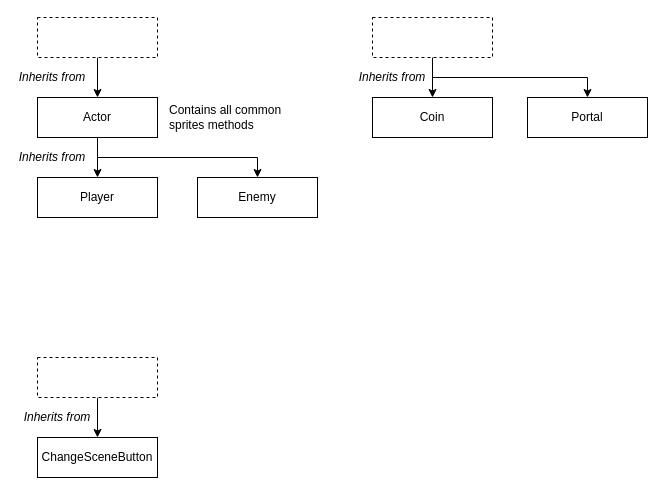
Some shapes in this 665 by 495 pixel diagram are drawn without their labels. The shapes that lost their labels are listed below. From the top down, each one's box as (x1, y1, x2, y2) in pixels, then its label:
(36, 16, 158, 58): KinematicBody2D
(372, 16, 492, 58): Area2D
(36, 356, 158, 398): Button
